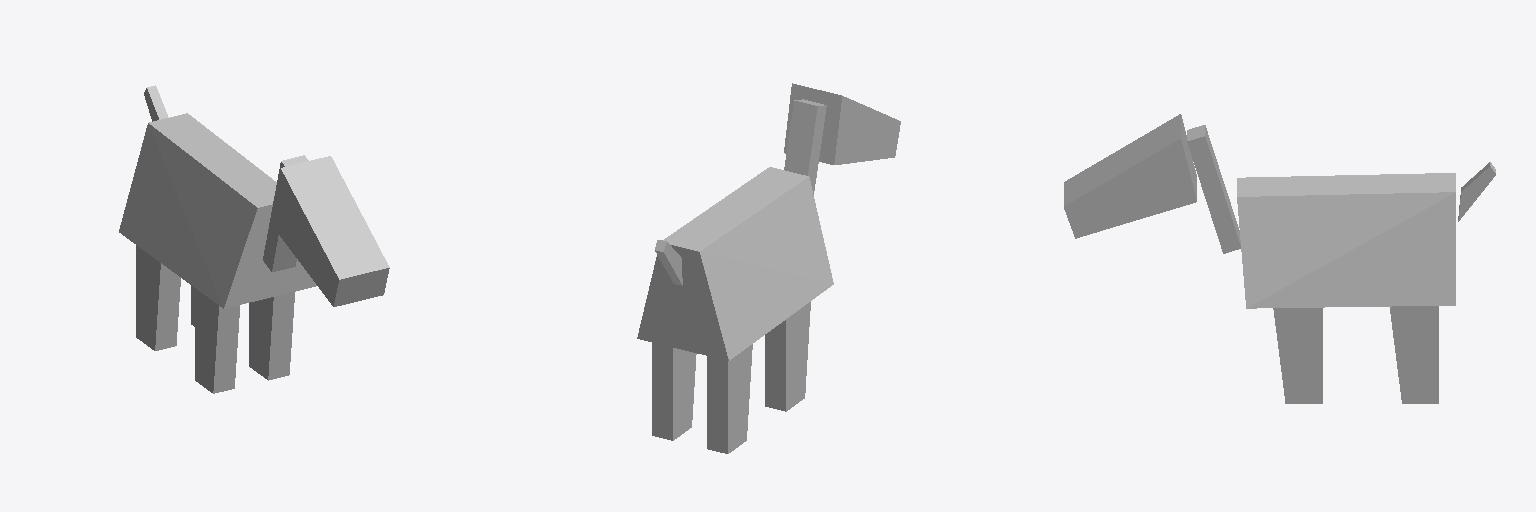
File: horse-02-body.obj
The picture shows the model from 3 angles: view 1: azimuth 30°, elevation 25°; view 2: azimuth 150°, elevation 25°; view 3: azimuth 270°, elevation 25°; orthographic projection.
Parts seen in each view (by area): view 1: Plane_Plane.001, Plane.004_Plane.005, Plane.006_Plane.002, Plane.007_Plane.002, Plane.001_Plane.002, Plane.005_Plane.006, Plane.003_Plane.004; view 2: Plane_Plane.001, Plane.004_Plane.005, Plane.007_Plane.002, Plane.006_Plane.002, Plane.002, Plane.005_Plane.006, Plane.003_Plane.004; view 3: Plane_Plane.001, Plane.004_Plane.005, Plane.002, Plane.001_Plane.002, Plane.005_Plane.006, Plane.003_Plane.004.
Part boxes in pixels (x1,y1,x2,y2): Plane_Plane.001: (119,113,316,308); Plane.004_Plane.005: (273,156,389,306); Plane.006_Plane.002: (195,288,239,393); Plane.007_Plane.002: (136,245,180,350); Plane.001_Plane.002: (249,292,294,380); Plane.005_Plane.006: (263,155,308,271); Plane.003_Plane.004: (144,85,168,121); Plane_Plane.001: (637,167,833,360); Plane.004_Plane.005: (784,83,900,164); Plane.007_Plane.002: (707,344,752,453); Plane.006_Plane.002: (765,302,810,411); Plane.002: (652,343,696,440); Plane.005_Plane.006: (784,99,826,194); Plane.003_Plane.004: (655,240,682,285); Plane_Plane.001: (1237,173,1455,308); Plane.004_Plane.005: (1064,114,1196,238); Plane.002: (1390,306,1438,403); Plane.001_Plane.002: (1273,308,1322,403); Plane.005_Plane.006: (1187,125,1240,253); Plane.003_Plane.004: (1458,162,1495,221).
Bounding box in the file's own units: 0.8178 × 2.07 × 3.12.